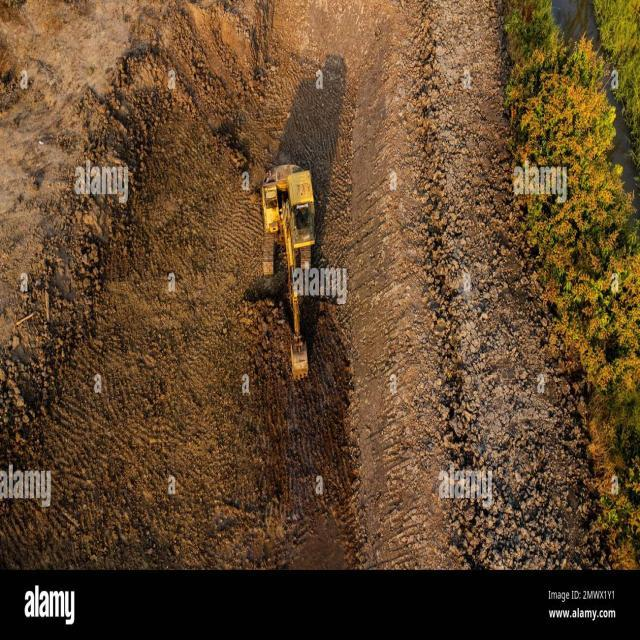excavator: (261, 165, 315, 380)
